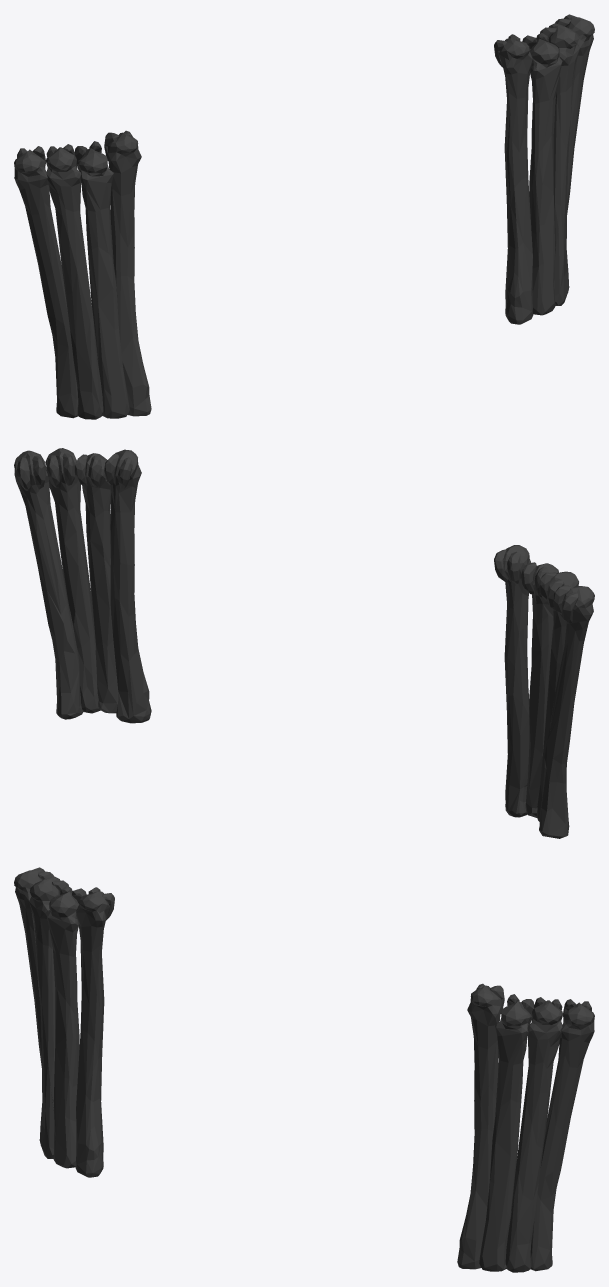
Rendered from b_metatarsals.glb.
3 views of the same model, one above another, from view 1: azimuth 30°, elevation 25°; view 2: azimuth 150°, elevation 25°; view 3: azimuth 330°, elevation 25° (orthographic).
Visible parts, largest first — view 1: b_metatarsals; view 2: b_metatarsals; view 3: b_metatarsals.
Boxes of the visible parts, bbox=[...] form: b_metatarsals: bbox=[14, 14, 594, 419]; b_metatarsals: bbox=[14, 448, 594, 838]; b_metatarsals: bbox=[14, 867, 594, 1272].
Size of the model in its own units: 0.0622 by 0.0282 by 0.0081.
Materials: 1 (1 with a texture image).
